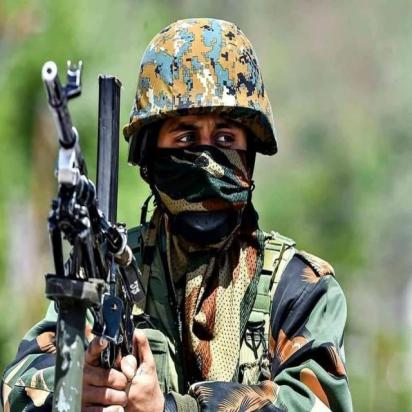Gun: (39, 55, 150, 411)
